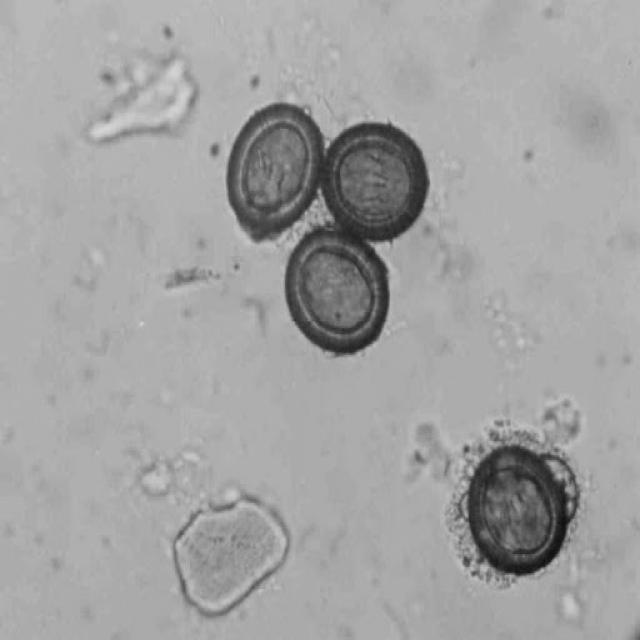Taenia Sp: (216, 90, 334, 251), (458, 432, 572, 576), (283, 223, 395, 368), (318, 117, 437, 228)
